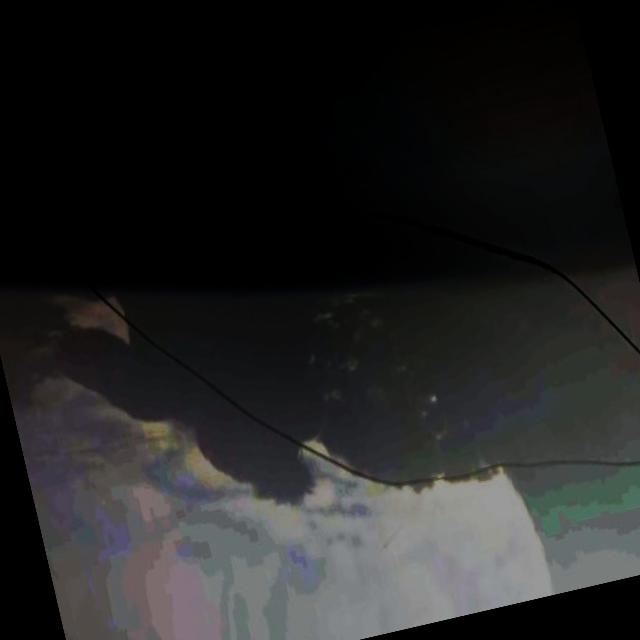crack: (74, 159, 561, 592), (56, 49, 572, 395)
